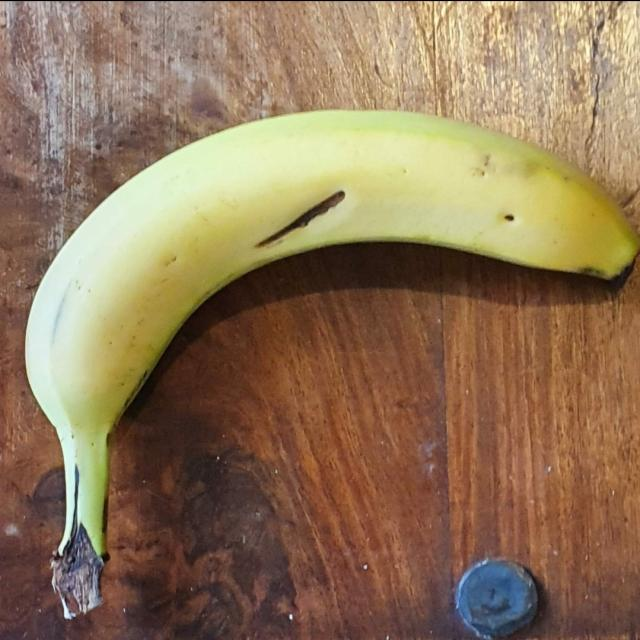Banana: (9, 105, 640, 620)
